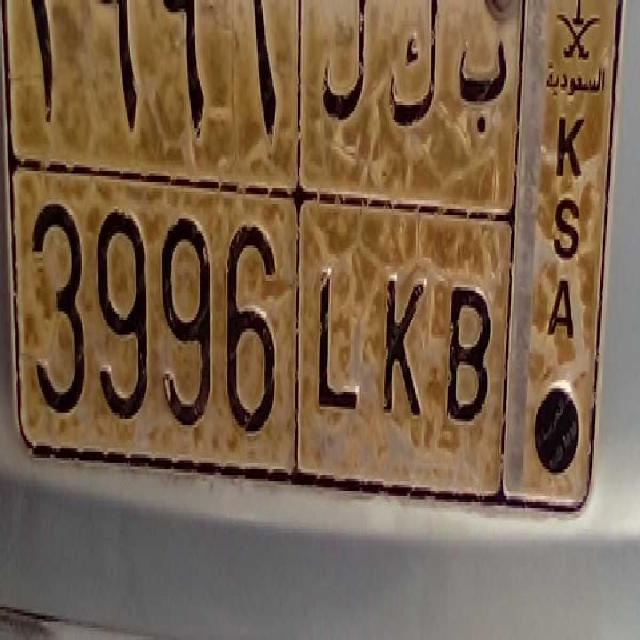license_plate: (9, 158, 499, 491)
